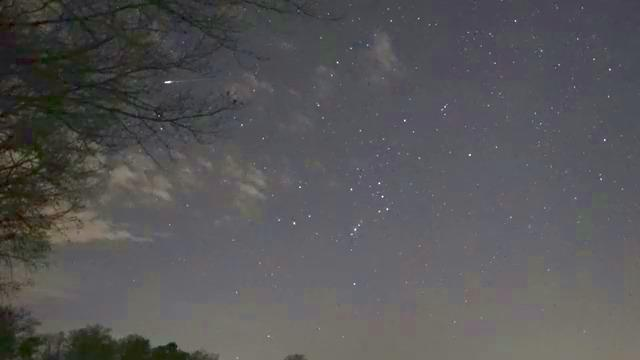meteorite: (148, 67, 250, 92)
